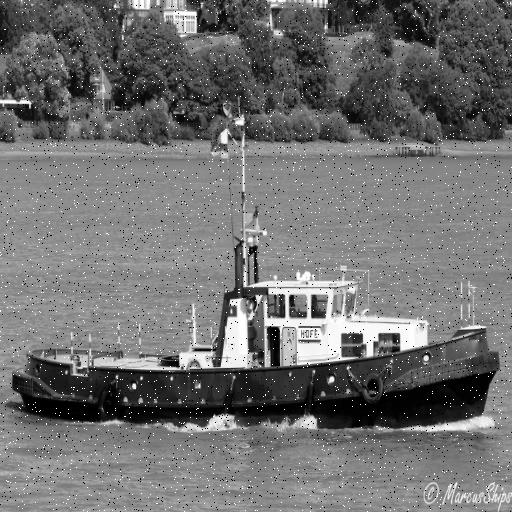tugboat: (10, 94, 503, 443)
